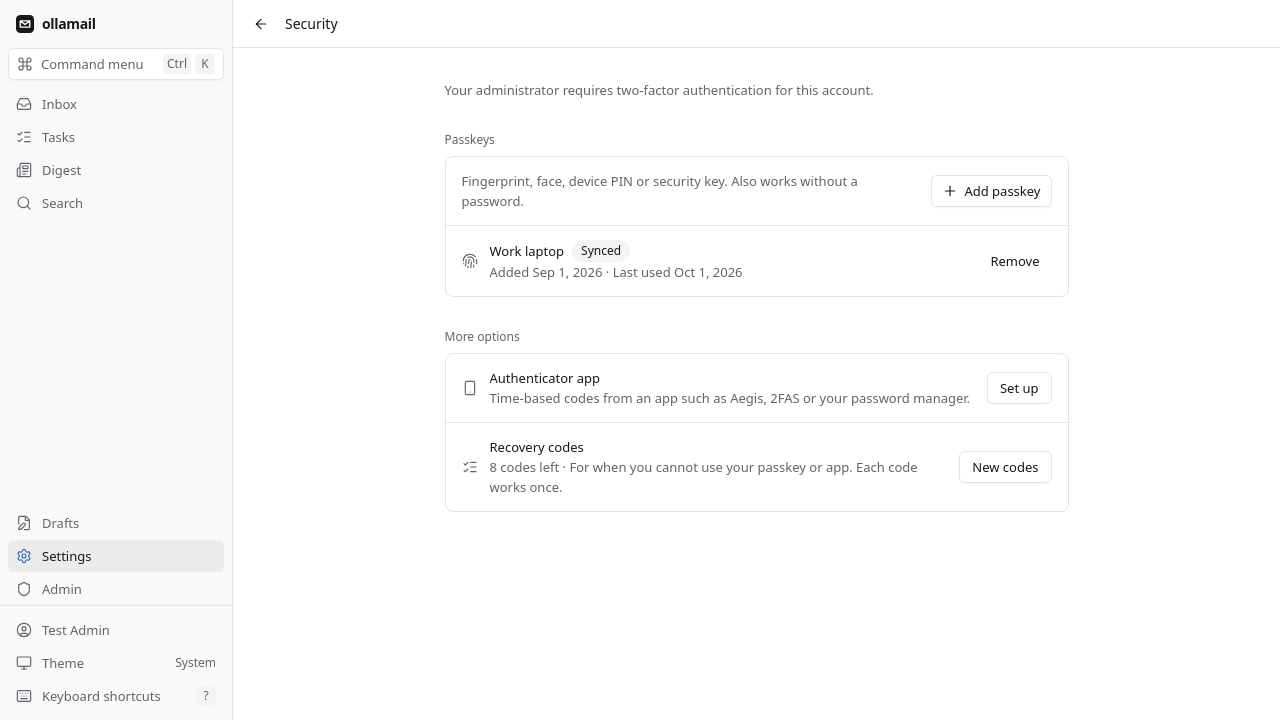
Test: Account → Security › lists the factors and explains why the last one stays
The image size is (1280, 720).
expect the heading "Security" is shown: met, box [285, 14, 338, 34]
expect the text "Your administrator requires two-factor authentication for this account." is shown: met, box [444, 81, 874, 99]
Click the button with aria-label "Remove passkey Work laptop" at (1015, 261), box [978, 245, 1052, 277]
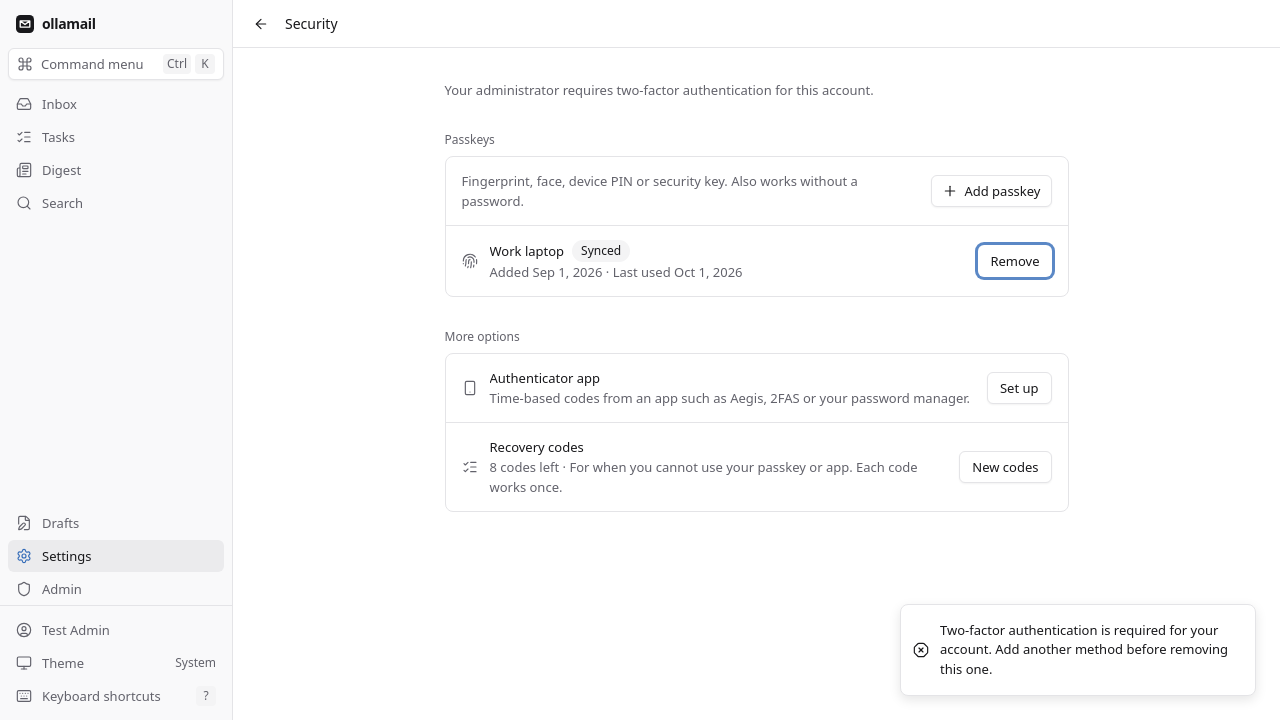
expect the text "Two-factor authentication is required for your account. Add another method before removing this one." is shown: met, box [940, 620, 1228, 678]
